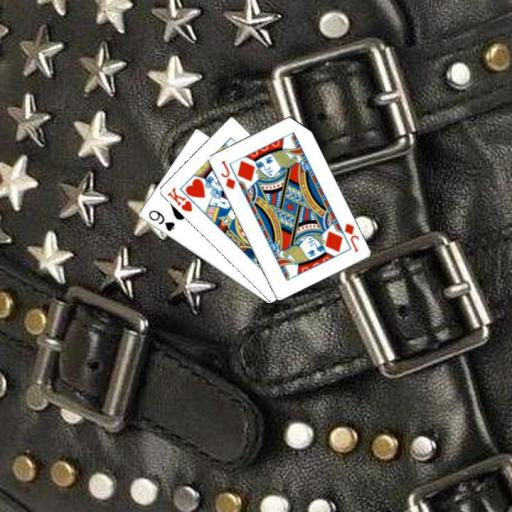9S: (145, 207, 176, 232)
JD: (341, 220, 361, 254), (218, 157, 237, 191)
KH: (164, 185, 194, 214)
